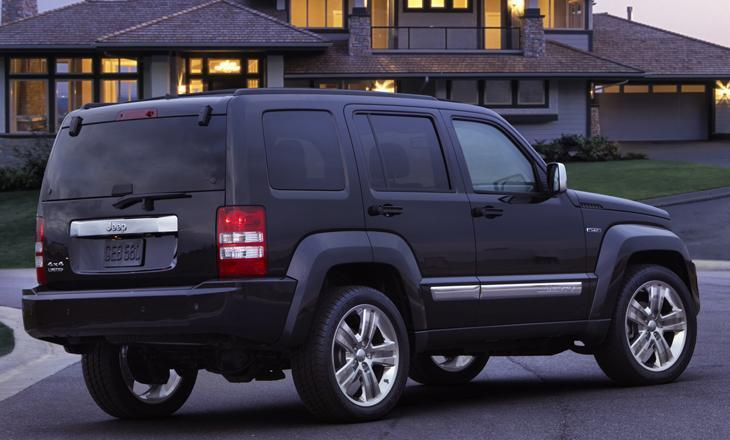Car: (16, 72, 711, 434)
